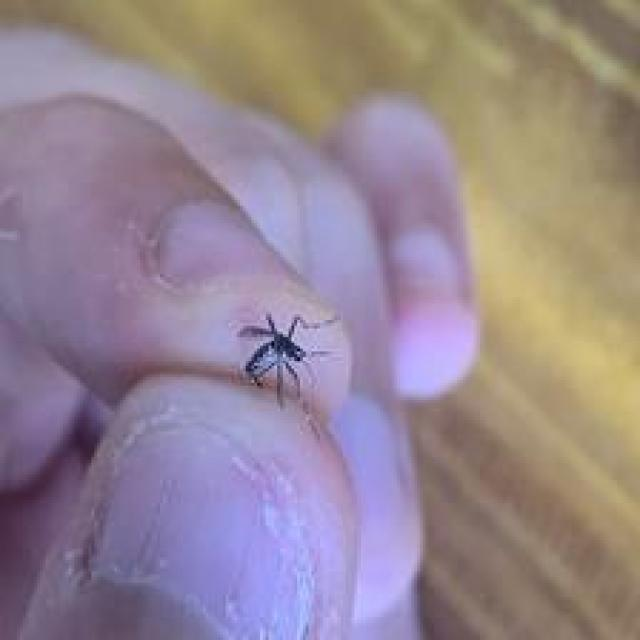Aedes albopictus: (235, 312, 338, 408)
